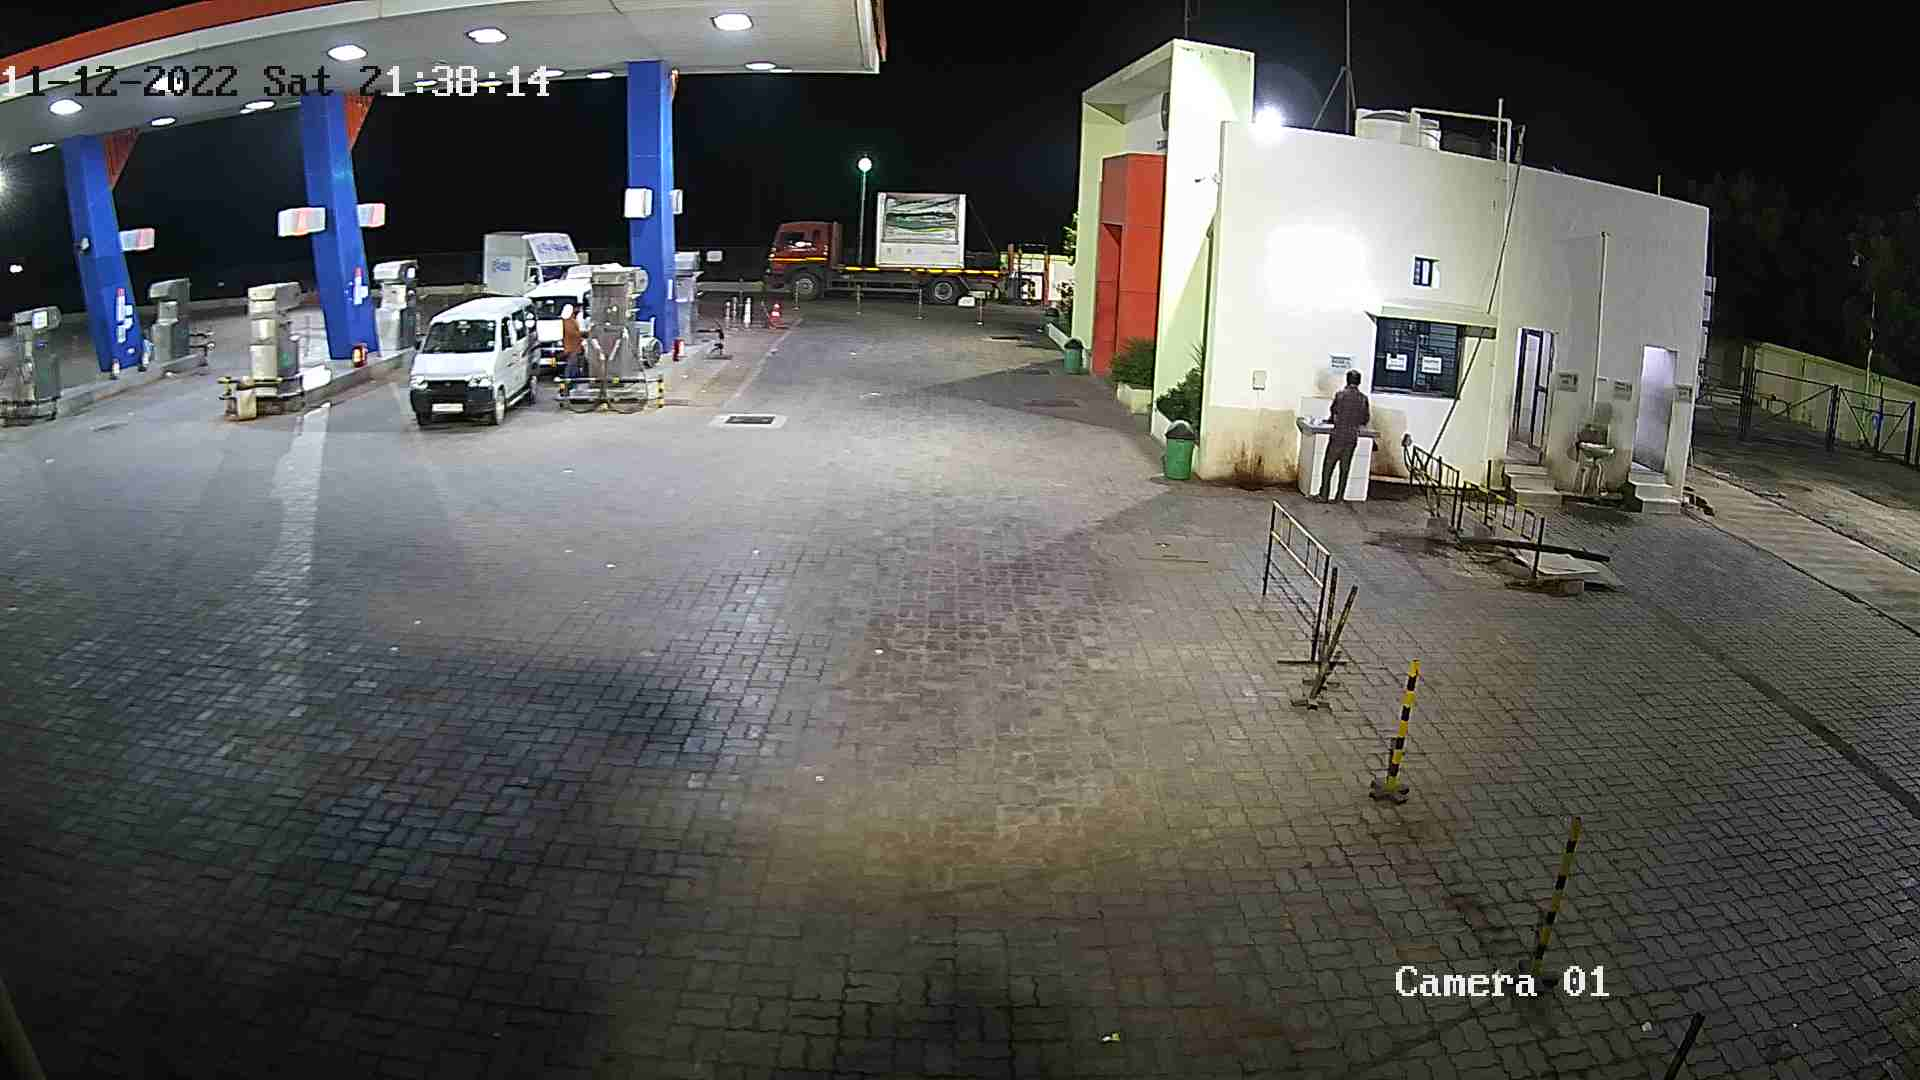Car: (401, 284, 551, 434), (516, 255, 603, 384), (468, 220, 591, 307)
HMV: (753, 182, 1044, 306)
